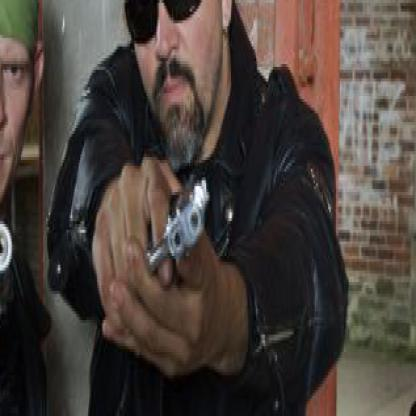gun: (134, 160, 219, 291), (0, 201, 21, 326)
